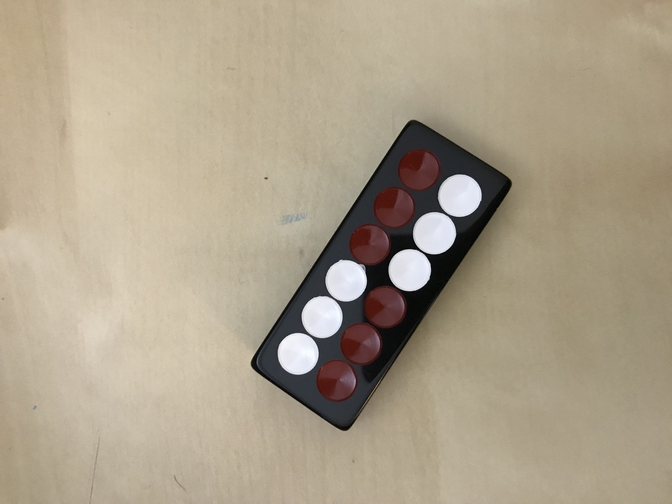heaven: (250, 119, 514, 432)
